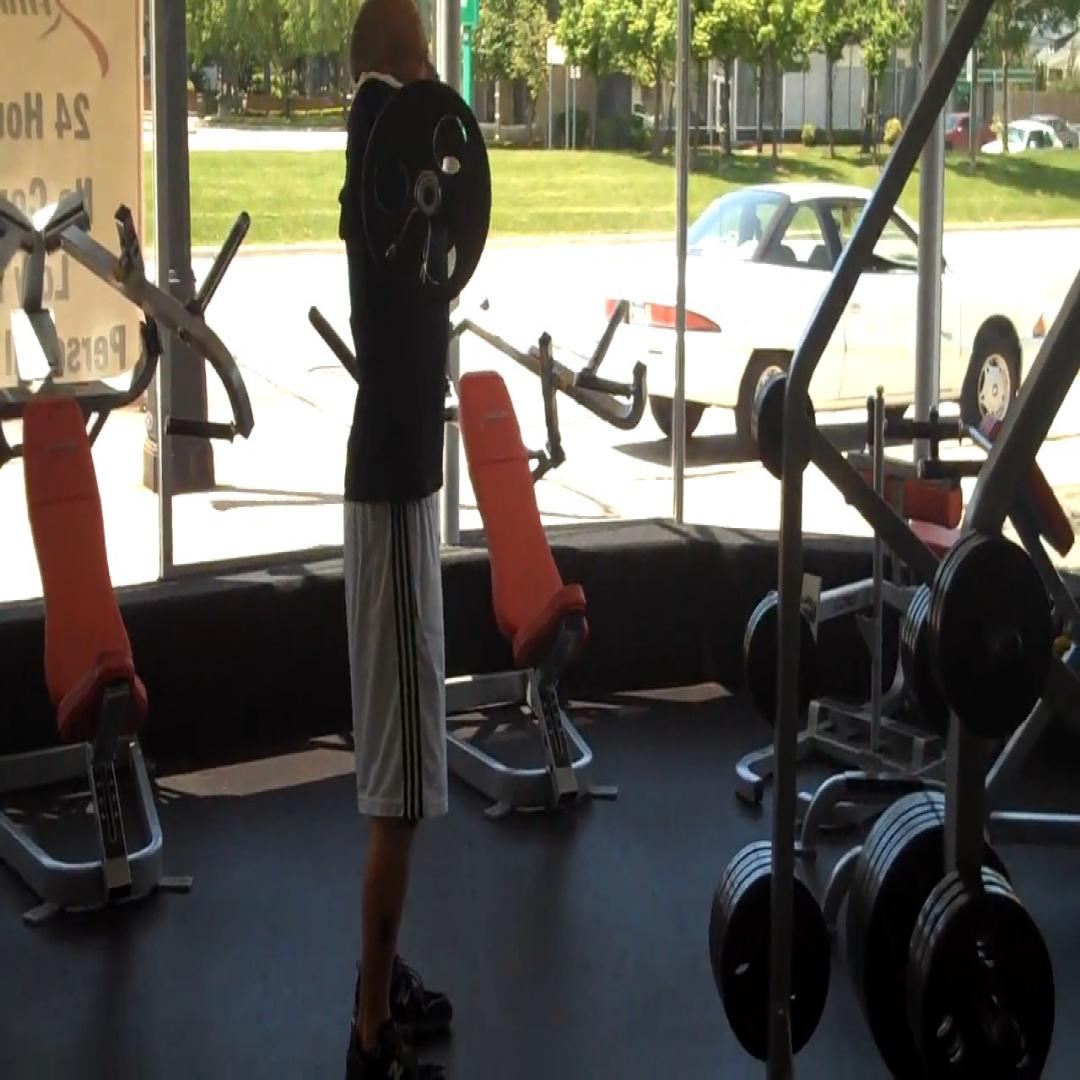Bar: (414, 171, 442, 219)
Barbell: (360, 79, 491, 309)
